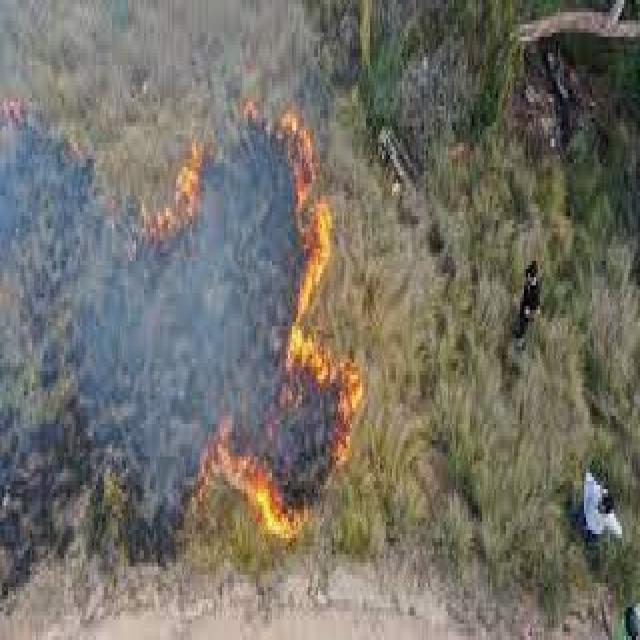Fire: (279, 99, 335, 342), (208, 437, 300, 540), (322, 356, 365, 482), (143, 146, 207, 227), (272, 316, 332, 386)
Smoke: (33, 220, 266, 431)
